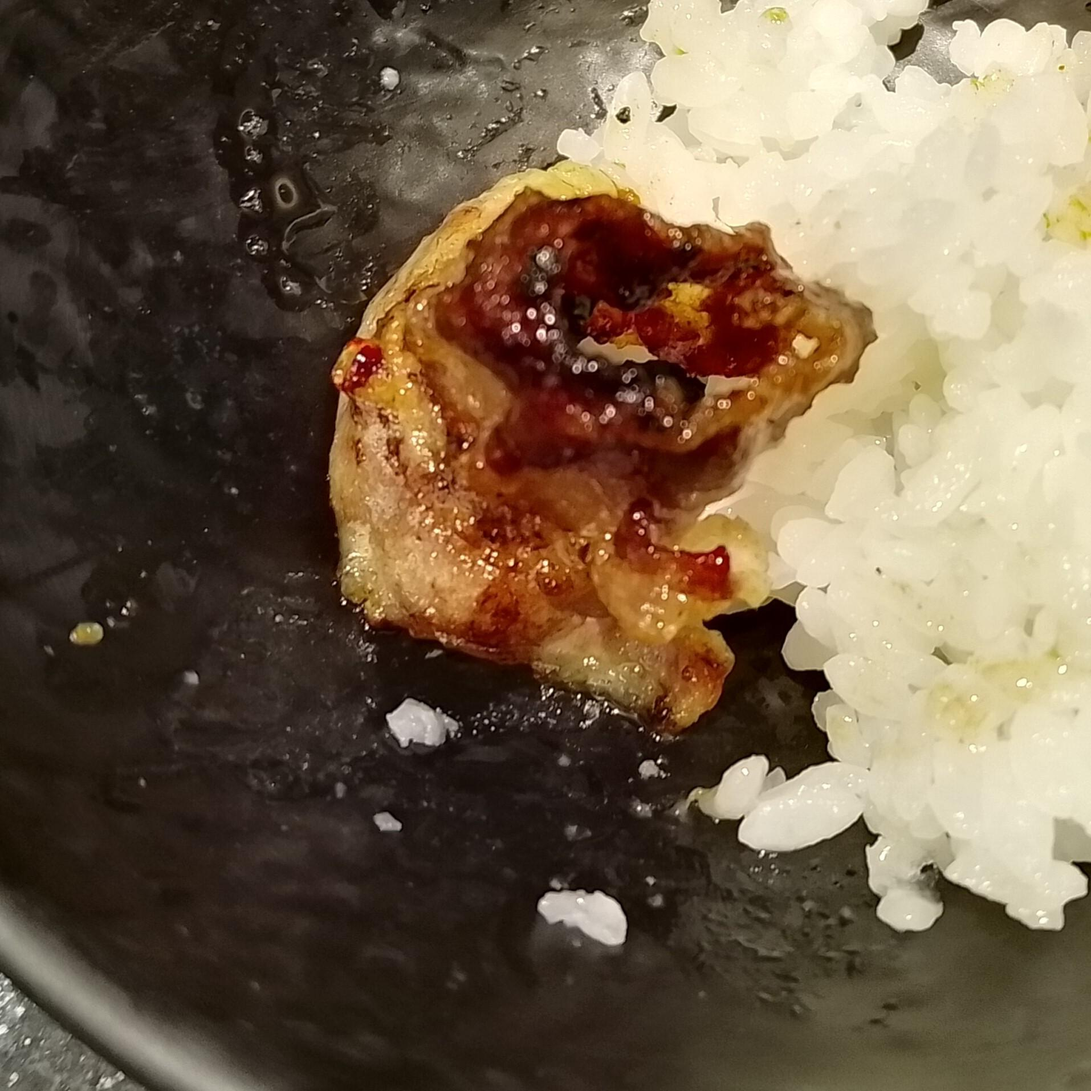Overcooked: (325, 158, 880, 739)
